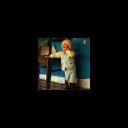baby: (43, 39, 78, 90)
